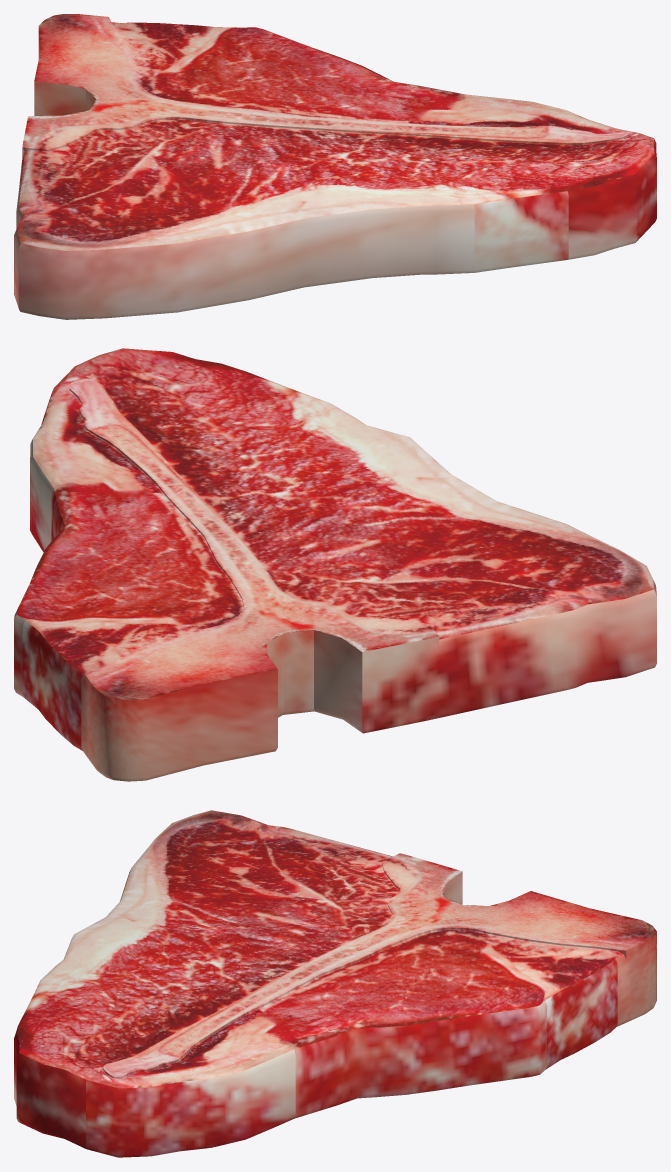
Rendered from carne.fbx.
3 renders of one model, top to bottom at view 1: azimuth 30°, elevation 25°; view 2: azimuth 150°, elevation 25°; view 3: azimuth 270°, elevation 25°, orthographic. The views are drawn at different scales.
Parts seen in each view (by area): view 1: Object_2; view 2: Object_2; view 3: Object_2.
Part boxes in pixels (<box>): Object_2: <box>14,14,656,319</box>; Object_2: <box>14,348,656,781</box>; Object_2: <box>14,810,656,1157</box>.
Size of the model in its own units: 20.88 by 3.04 by 19.98.
Materials: 1 (1 with a texture image).
